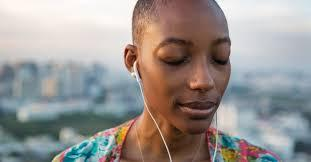Persons: (126, 0, 241, 137)
